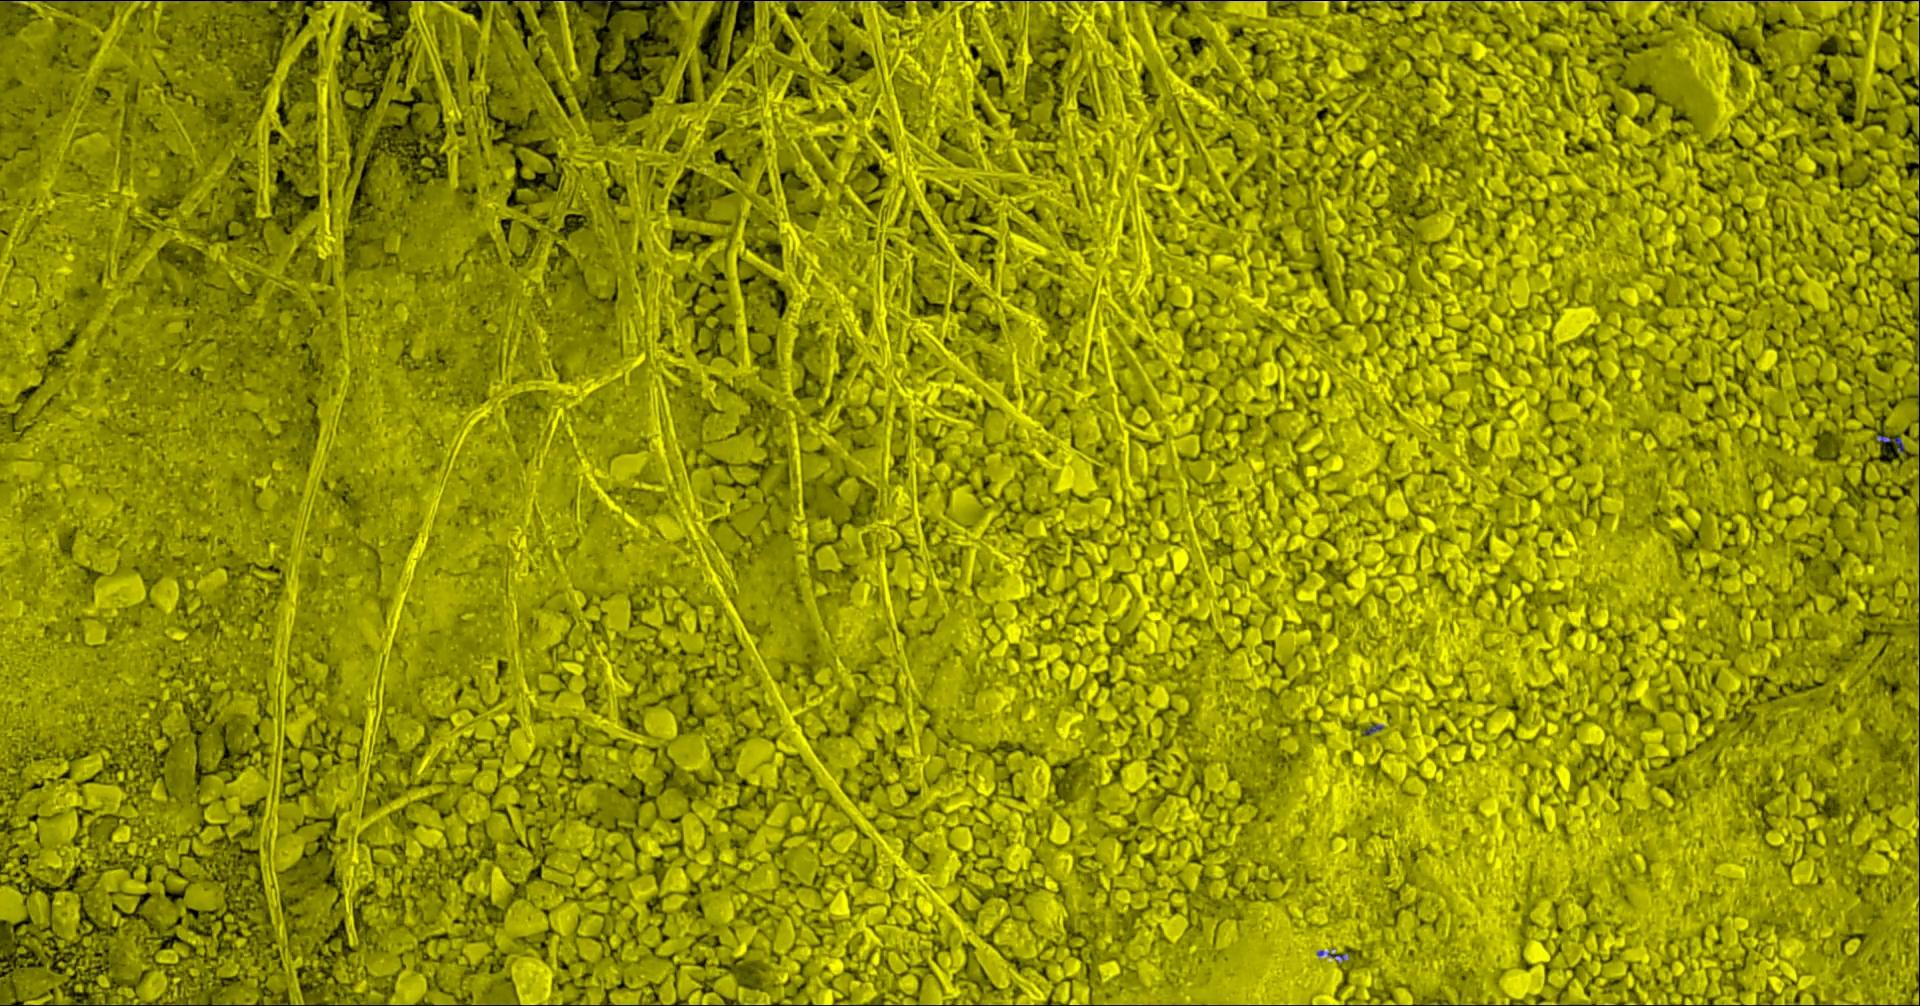ant: (1878, 434, 1903, 451), (1316, 950, 1343, 960)
